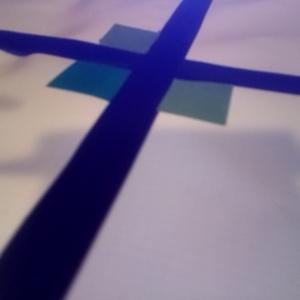bottom_left: (47, 55, 158, 101)
bottom_right: (134, 67, 233, 124)
top_left: (98, 23, 183, 61)
